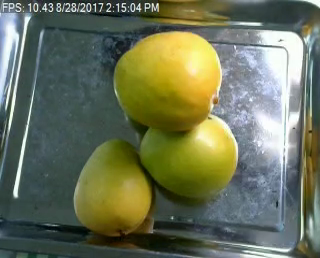Mango: (112, 28, 222, 130), (138, 112, 239, 197), (72, 138, 152, 235)
